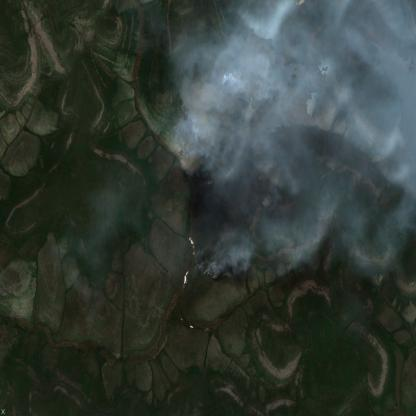fire: (177, 90, 268, 288)
